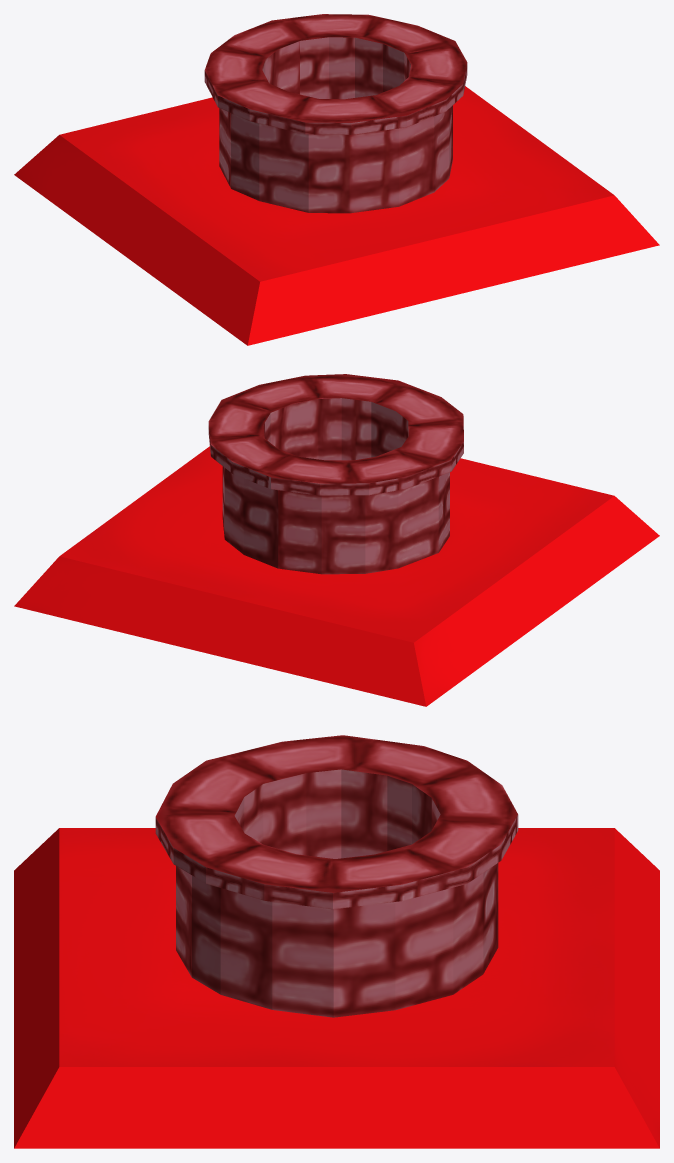
The model's file is Sayako Building Level 1.FBX.
3 views of the same model, one above another, from view 1: azimuth 30°, elevation 25°; view 2: azimuth 150°, elevation 25°; view 3: azimuth 270°, elevation 25° (orthographic). The views are drawn at different scales.
Visible parts, largest first — view 1: Box001; view 2: Box001; view 3: Box001.
Boxes of the visible parts, x1,y1,x2,y2 form: Box001: [14, 14, 659, 345]; Box001: [14, 374, 659, 706]; Box001: [14, 735, 659, 1148].
Size of the model in its own units: 39.93 by 13.1 by 39.19.
